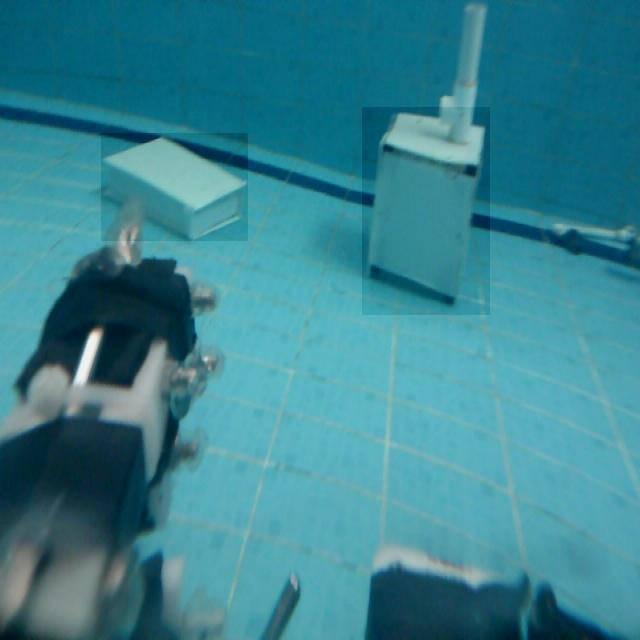Cube: (362, 107, 490, 315)
Cuboid: (101, 134, 248, 242)
